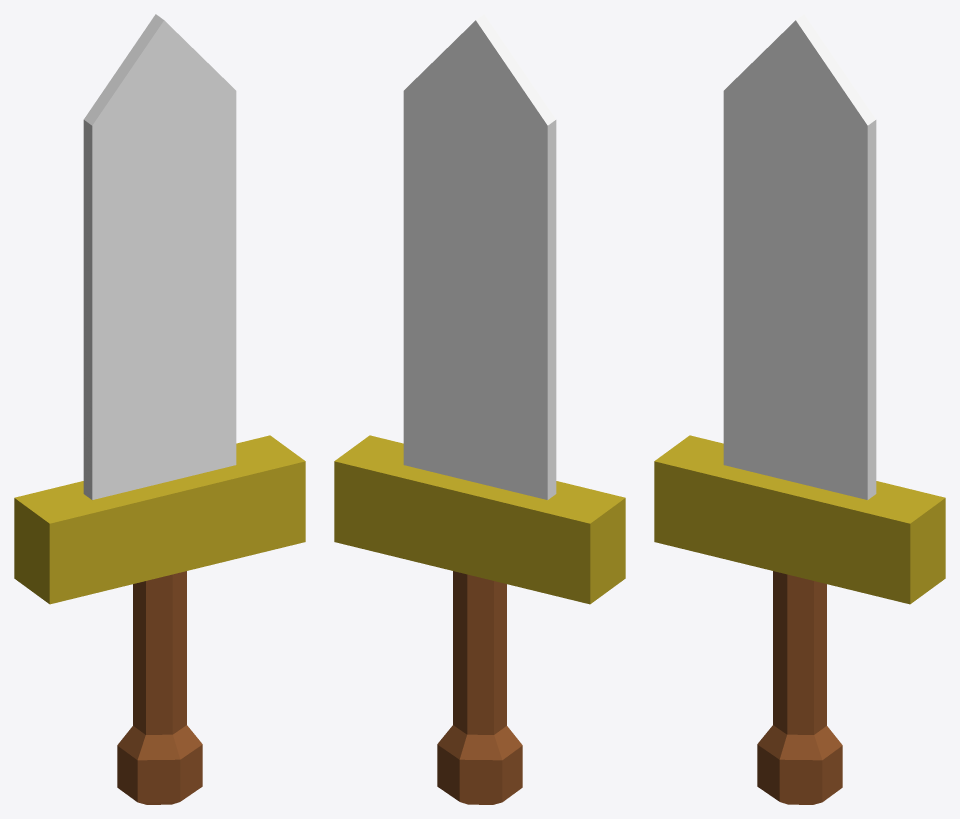
File: Sword.fbx
3 renders of one model, left to right at view 1: azimuth 30°, elevation 25°; view 2: azimuth 150°, elevation 25°; view 3: azimuth 330°, elevation 25°, orthographic.
Visible parts, largest first — view 1: Cube; view 2: Cube; view 3: Cube.
Part boxes in pixels (x1,y1,x2,y2): Cube: (14, 14, 305, 804); Cube: (334, 14, 625, 804); Cube: (654, 14, 945, 804).
Bounding box in the file's own units: 70.03 × 204 × 19.29.
